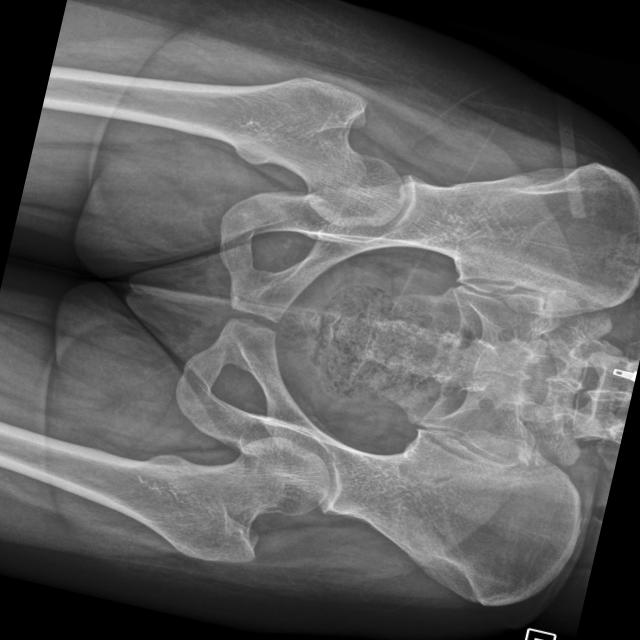normal-left: (8, 428, 329, 561)
normal-right: (80, 70, 403, 227)
